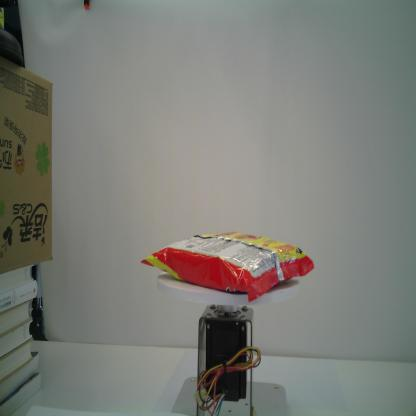Instant Noodles: (139, 230, 315, 304)
